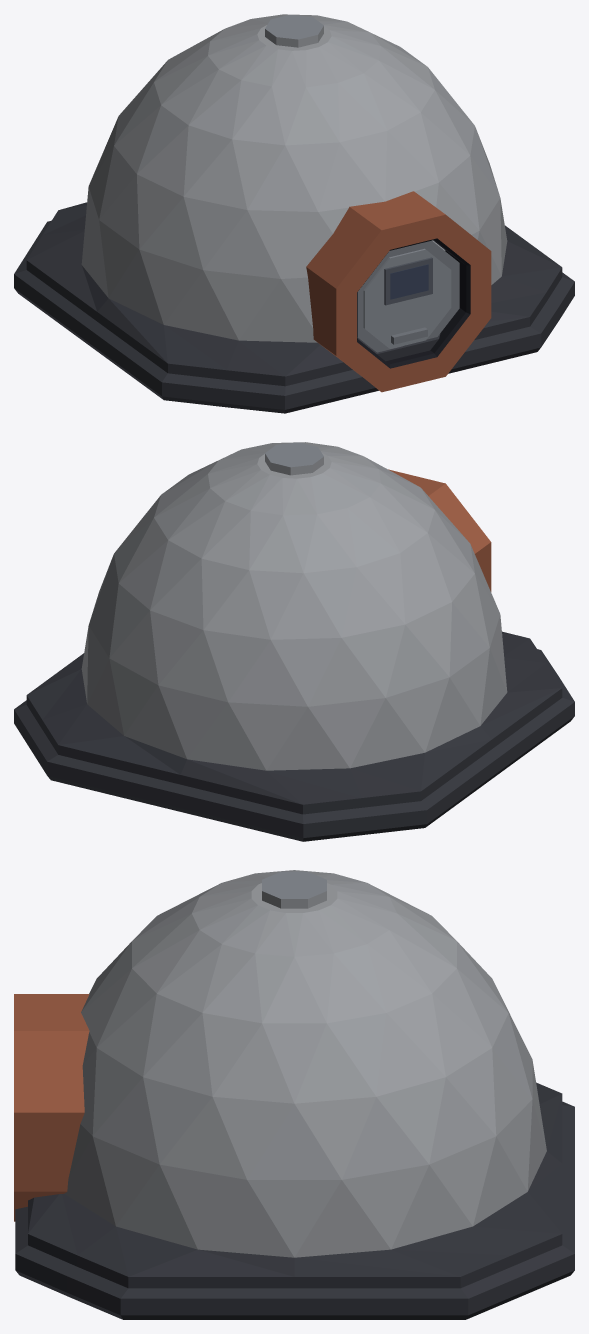
File: habitat-dome-8d3499.glb
The picture shows the model from 3 angles, top to bottom: view 1: azimuth 30°, elevation 25°; view 2: azimuth 150°, elevation 25°; view 3: azimuth 270°, elevation 25°; orthographic projection. The views are drawn at different scales.
Parts seen in each view (by area): view 1: hull, leaf; view 2: hull; view 3: hull.
Part boxes in pixels (x1,y1,x2,y2): hull: (14, 14, 574, 413); leaf: (357, 240, 459, 352); hull: (14, 442, 574, 841); hull: (14, 870, 574, 1319).
Bounding box in the file's own units: 8 × 5 × 8.
